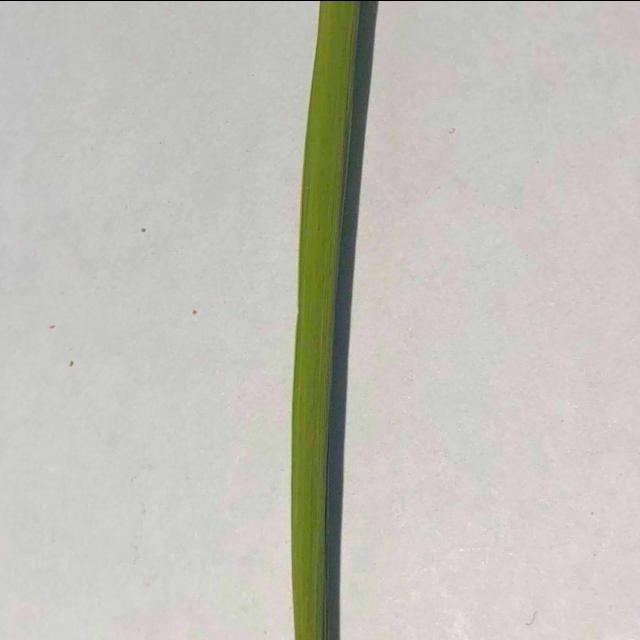healthy: (264, 0, 411, 640)
